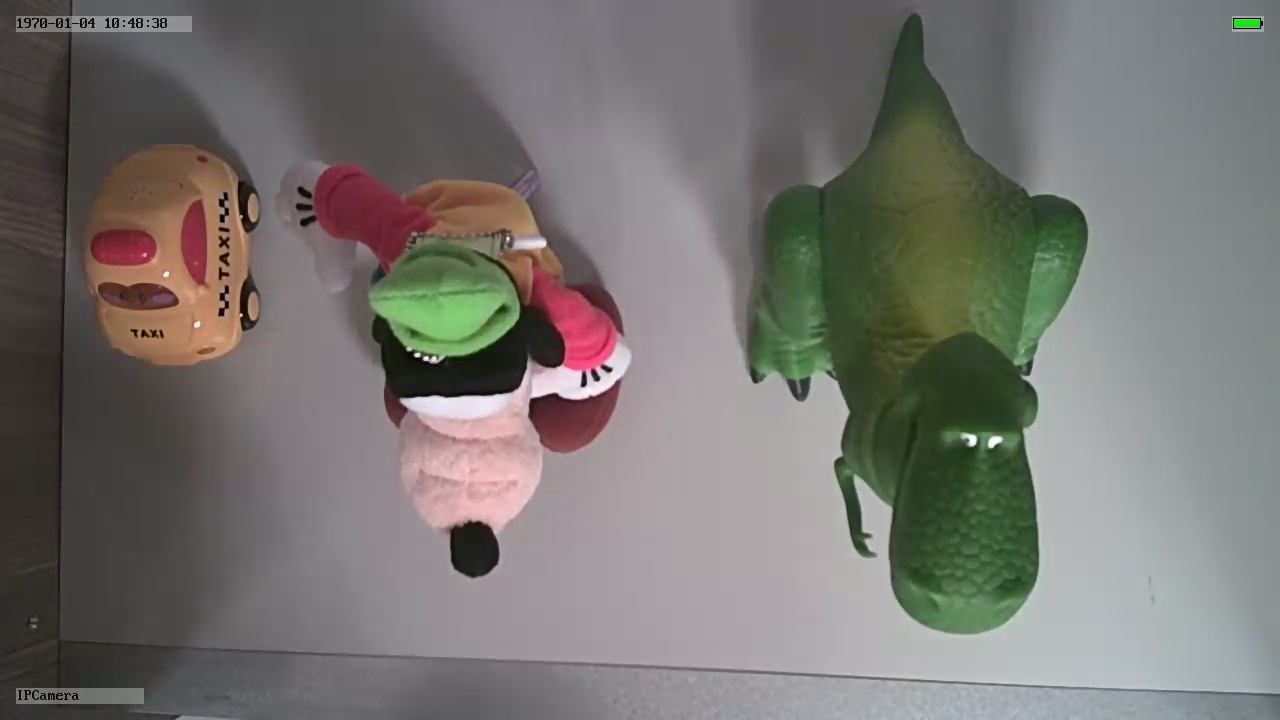car: (82, 138, 260, 370)
goofy: (278, 160, 633, 578)
rex: (748, 95, 1089, 638)
